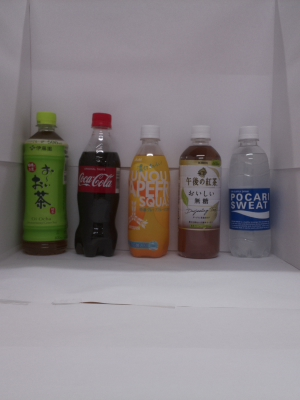おーいお茶: (18, 106, 72, 261)
グレープフルーツスカッシュ: (123, 120, 174, 265)
コーラ: (71, 109, 127, 263)
ポカリスエット: (224, 124, 277, 268)
午後の紅茶: (173, 120, 225, 266)
